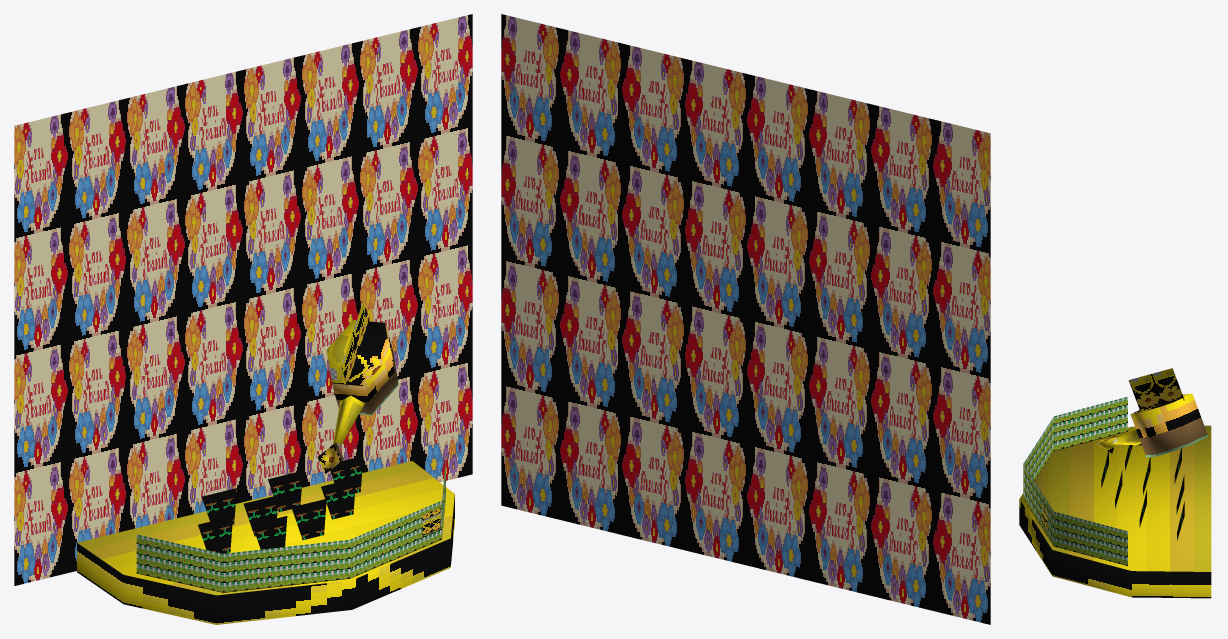
3 views of the same model, side by side, from view 1: azimuth 30°, elevation 25°; view 2: azimuth 150°, elevation 25°; view 3: azimuth 270°, elevation 25° (orthographic). The views are drawn at different scales.
Parts seen in each view (by area): view 1: 3770kg_sh0_17; view 2: 3770kg_sh0_17; view 3: 3770kg_sh0_17.
Part boxes in pixels (box(x1,y1,x2,y2)): 3770kg_sh0_17: box(14, 14, 472, 624); 3770kg_sh0_17: box(501, 14, 990, 624); 3770kg_sh0_17: box(1019, 368, 1211, 598).
Size of the model in its own units: 1.7 by 1.7 by 0.6968.
Materials: 4 (4 with a texture image).
